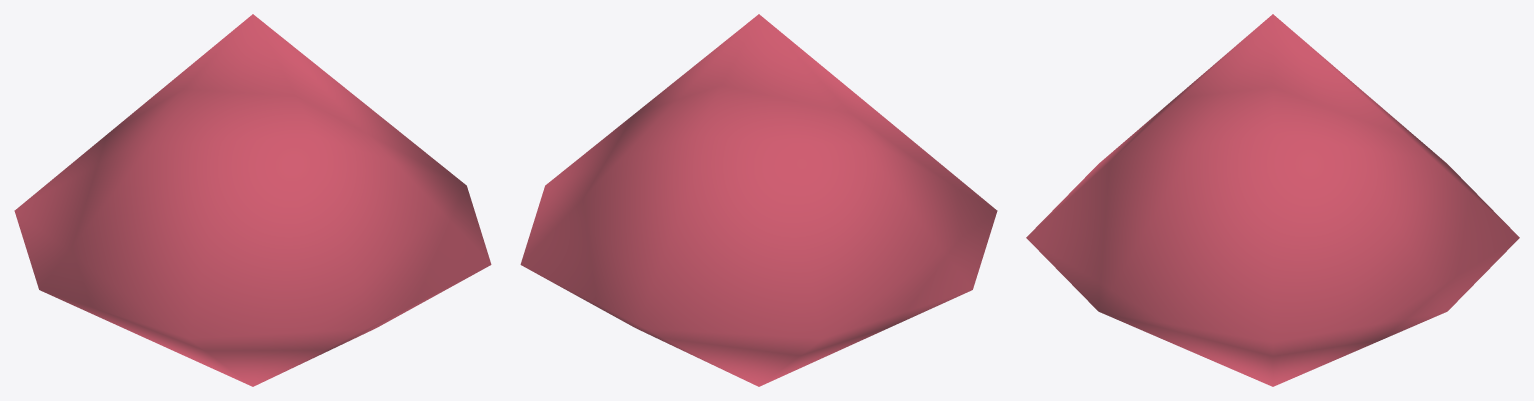
File: gem.glb
The picture shows the model from 3 angles, left to right: view 1: azimuth 30°, elevation 25°; view 2: azimuth 150°, elevation 25°; view 3: azimuth 270°, elevation 25°; orthographic projection.
Visible parts, largest first — view 1: gem; view 2: gem; view 3: gem.
Boxes of the visible parts, <box> form: gem: <box>14,14,491,386</box>; gem: <box>520,14,997,386</box>; gem: <box>1026,14,1519,386</box>.
Size of the model in its own units: 0.03 by 0.025 by 0.03.
